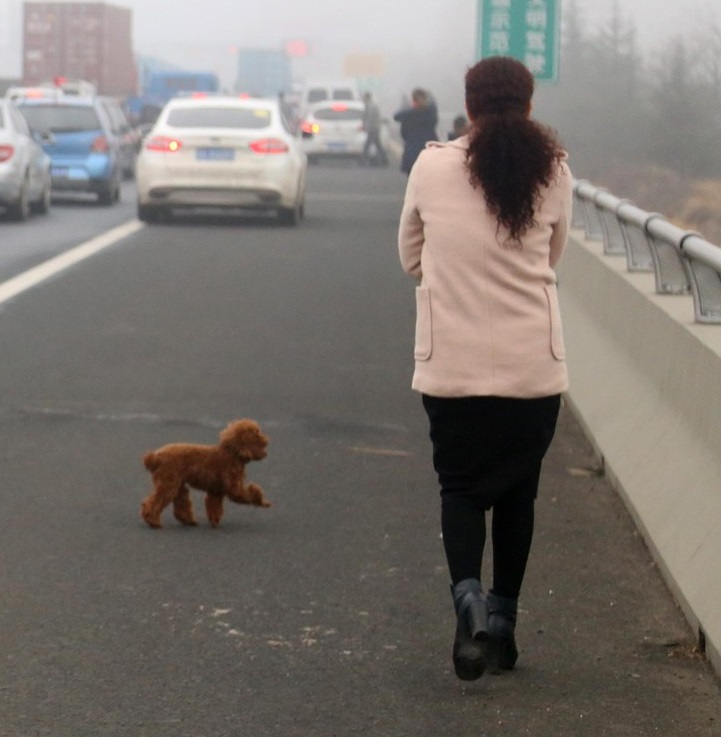person: (395, 54, 577, 682), (394, 87, 442, 172), (355, 87, 390, 167)
